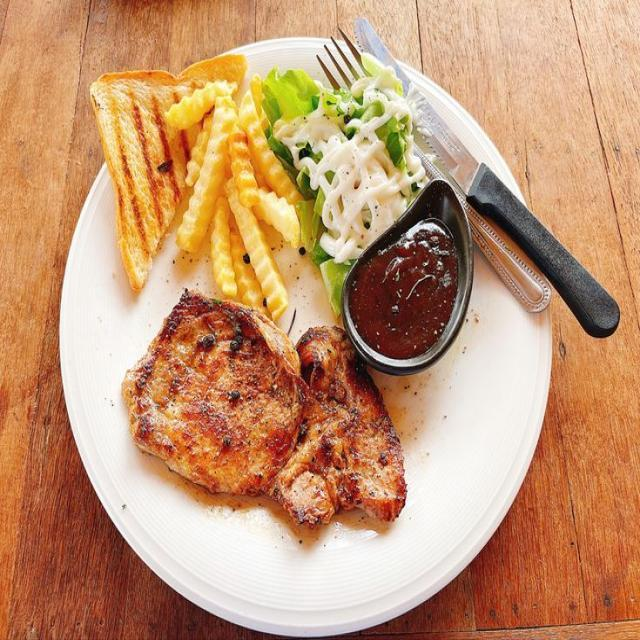cac loai rau cu: (267, 52, 432, 310)
khoai tay chien: (89, 56, 294, 321)
thit heo: (122, 288, 407, 527)
thit lon bistek: (91, 55, 529, 540)
